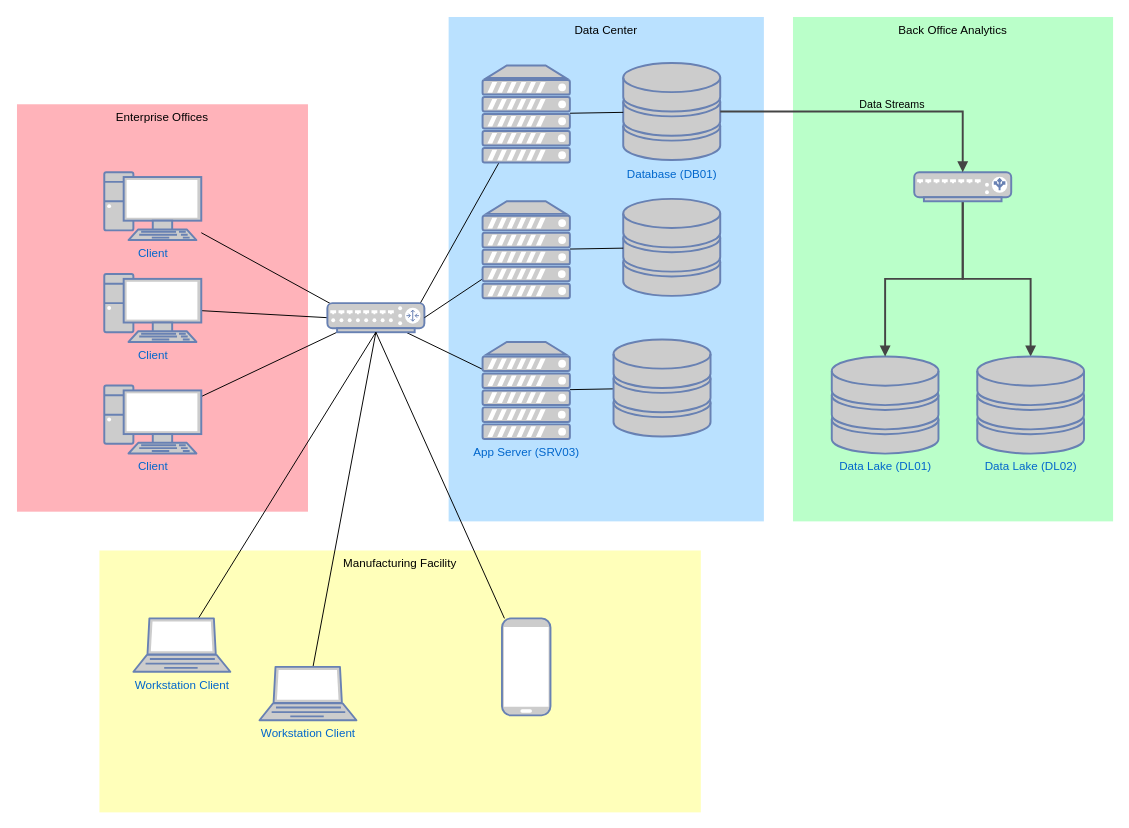
The diagram is 1129 pixels wide and 828 high, and some of its shapes have lost their labels. Here are the shapes that lost their labels. From the top down, the centre of each, then its label:
At (525,113): "App Server (SRV01)".
At (962,186): "Load balancer".
At (525,249): "App Server (SRV02)".
At (671,246): "Database (DB02)".
At (375,317): "Router".
At (661,387): "Database (DB03)".
At (526,666): "Mobile Client".
